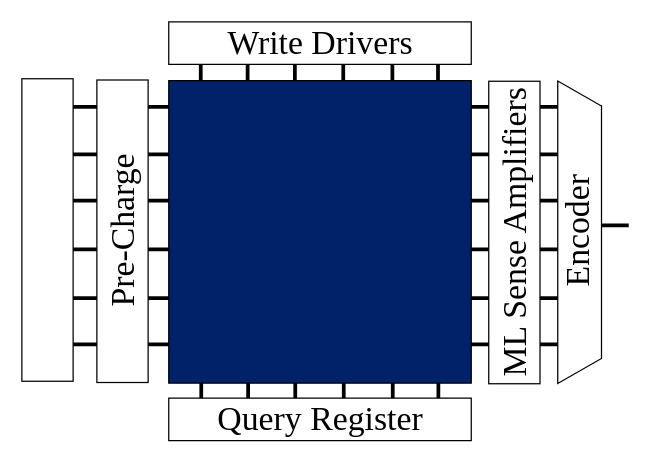
The diagram is 654 pixels wide and 463 high, and some of its shapes have lost their labels. The shapes that lost their labels are listed below. From the top down, each one's box as (x1, y1, x2, y2) in pixels, then its label:
(21, 78, 73, 381): Address Decoder
(168, 79, 471, 383): CAM Array
